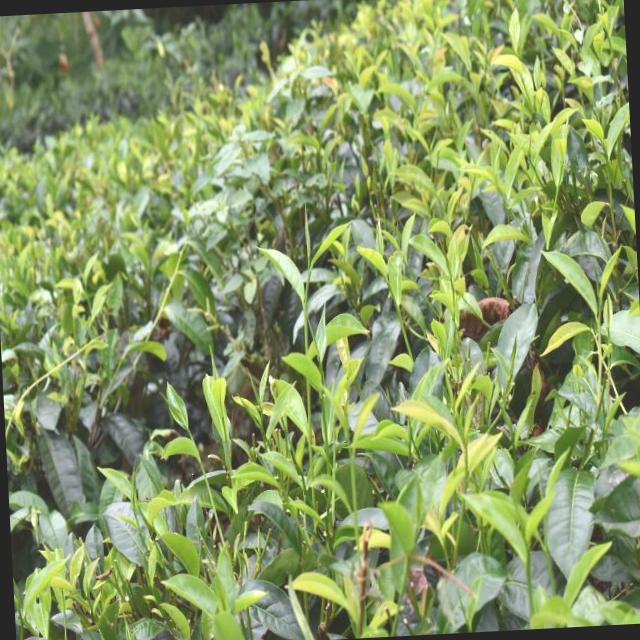Stem: (596, 318, 601, 335), (450, 277, 455, 293), (198, 458, 204, 471), (351, 456, 355, 474), (397, 308, 403, 320), (306, 273, 310, 287), (526, 564, 530, 577)
